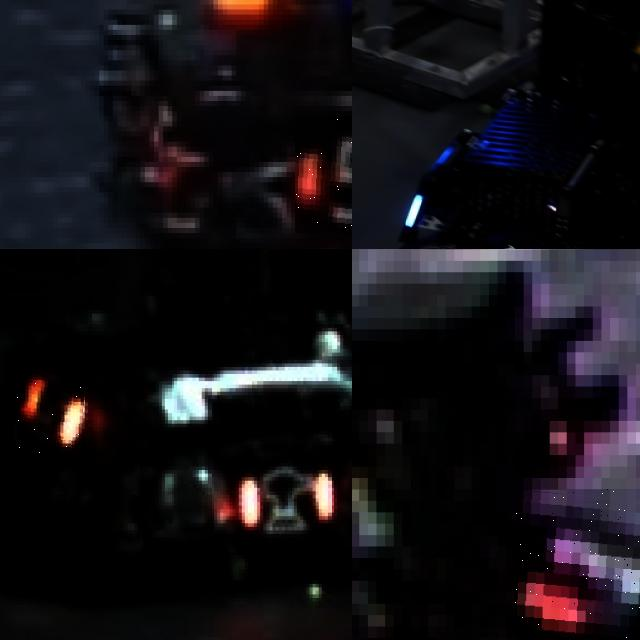R3: (514, 489, 640, 637)
R5: (295, 116, 352, 233)
Rs: (233, 466, 340, 527), (17, 378, 85, 456)
